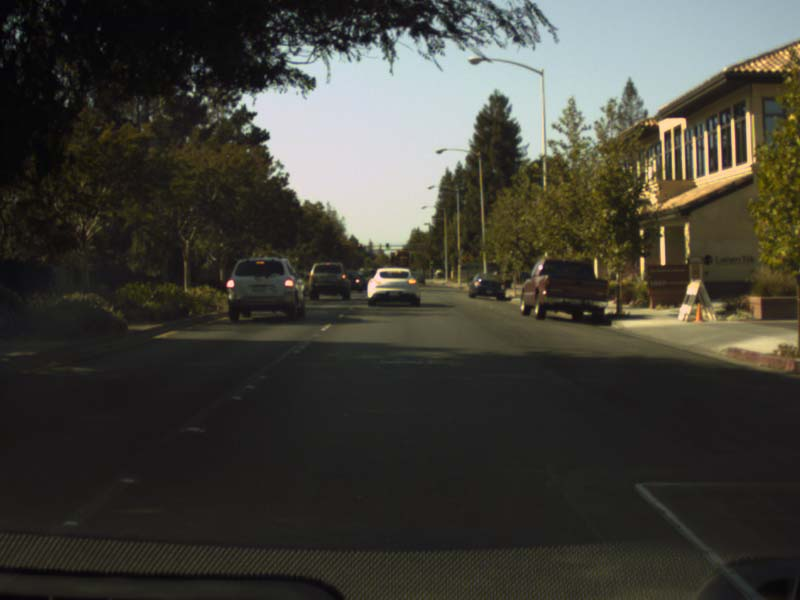Green: (386, 242, 389, 250), (429, 260, 433, 264)
Red: (357, 244, 360, 250)
